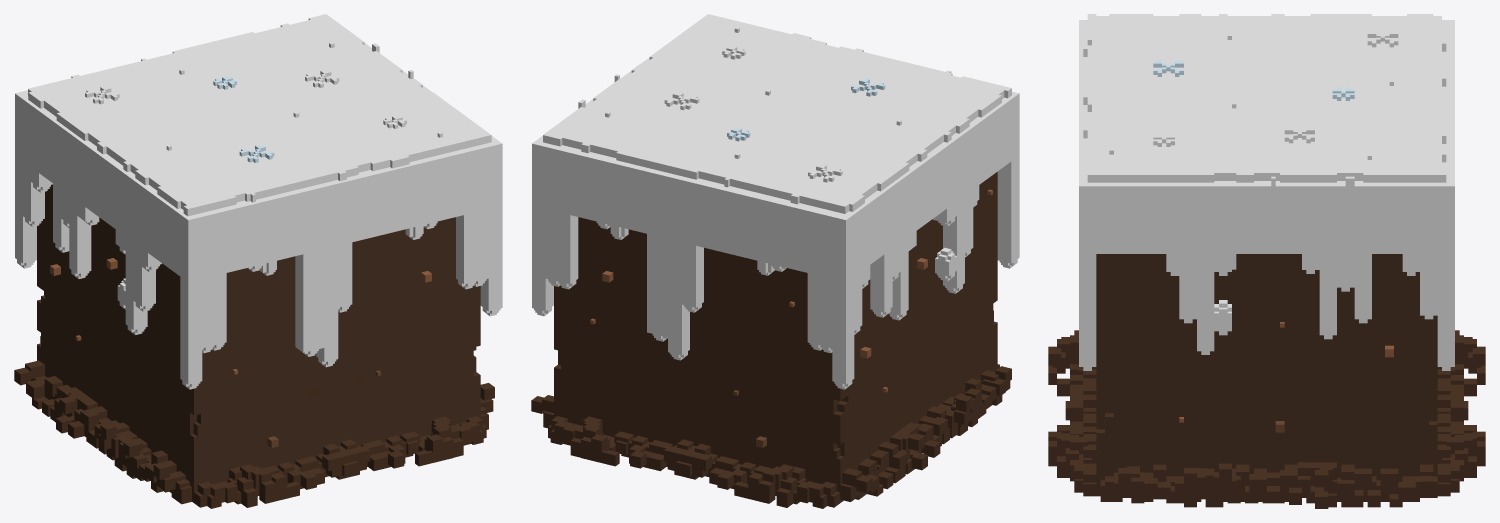
Rendered from groundFlakes.obj.
3 renders of one model, left to right at view 1: azimuth 30°, elevation 25°; view 2: azimuth 150°, elevation 25°; view 3: azimuth 270°, elevation 25°, orthographic. The views are drawn at different scales.
Bounding box in the file's own units: 10 × 8.3 × 10.
Materials: 1 (1 with a texture image).
